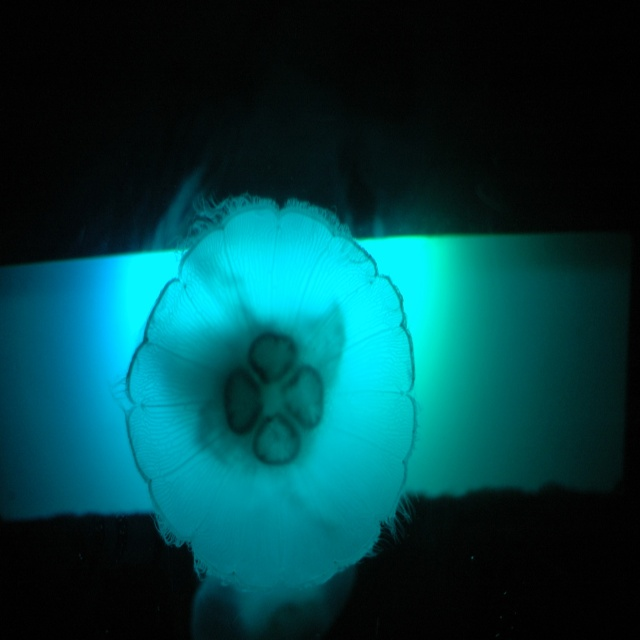Jellyfish: (107, 185, 426, 639)
